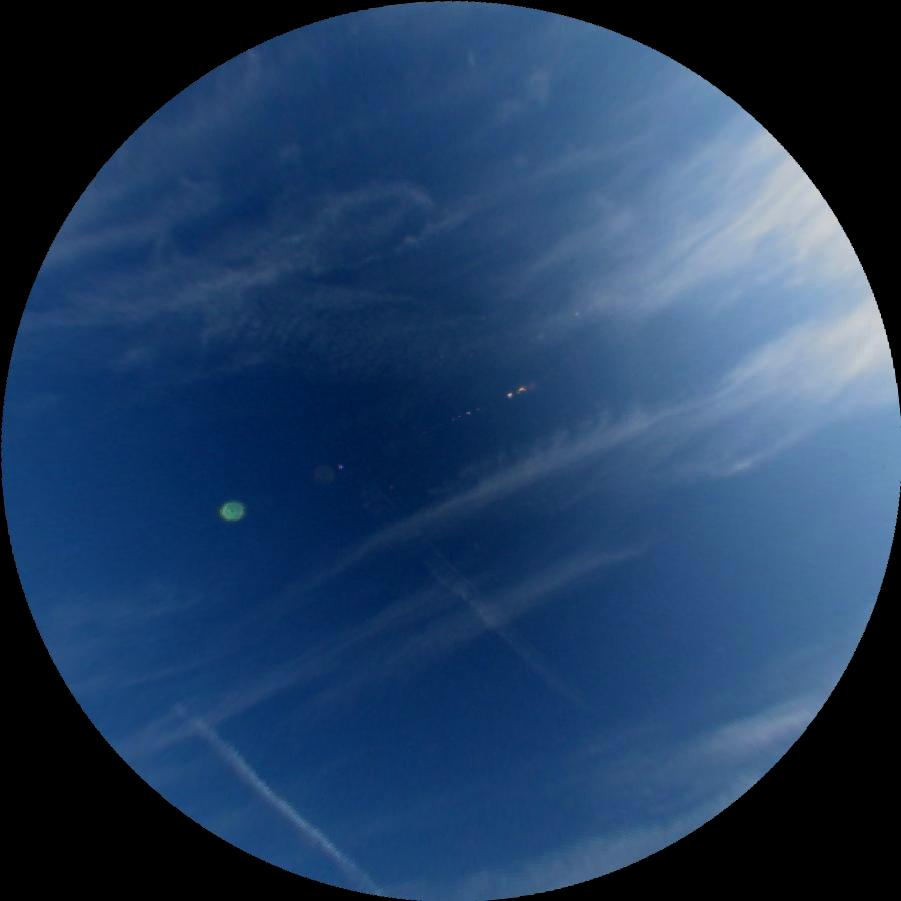contrail old: (168, 698, 379, 895)
contrail veryold: (353, 477, 586, 713)
